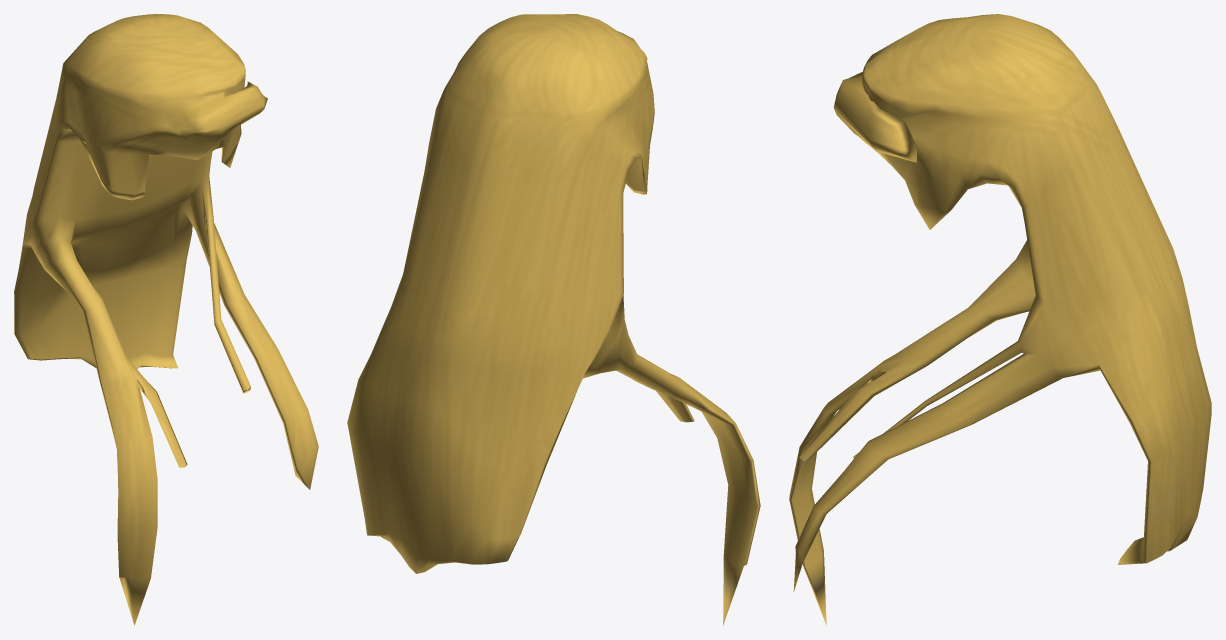
The model's file is hair 4.fbx.
The picture shows the model from 3 angles, left to right: view 1: azimuth 30°, elevation 25°; view 2: azimuth 150°, elevation 25°; view 3: azimuth 270°, elevation 25°; orthographic projection. The views are drawn at different scales.
Visible parts, largest first — view 1: hair_4; view 2: hair_4; view 3: hair_4.
Part boxes in pixels (bbox=[...]): hair_4: bbox=[14, 14, 318, 625]; hair_4: bbox=[347, 14, 760, 625]; hair_4: bbox=[789, 14, 1211, 625].
Bounding box in the file's own units: 1.51 × 3.66 × 2.17.
Materials: 1 (1 with a texture image).
